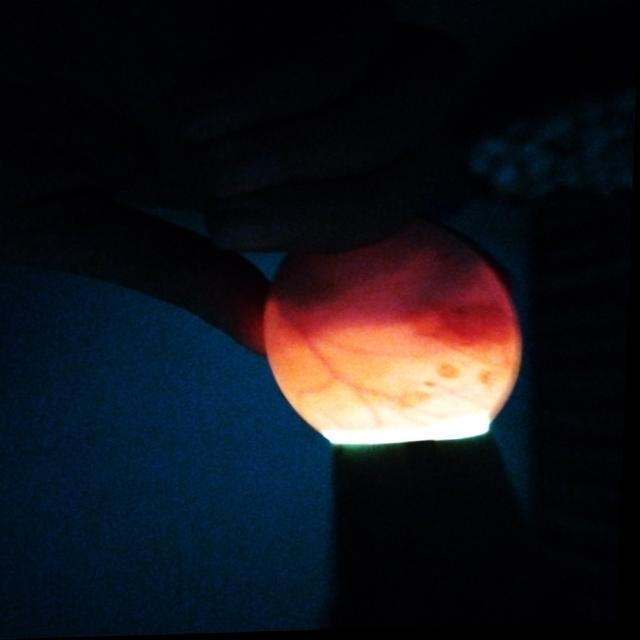Embriao: (265, 222, 496, 341)
